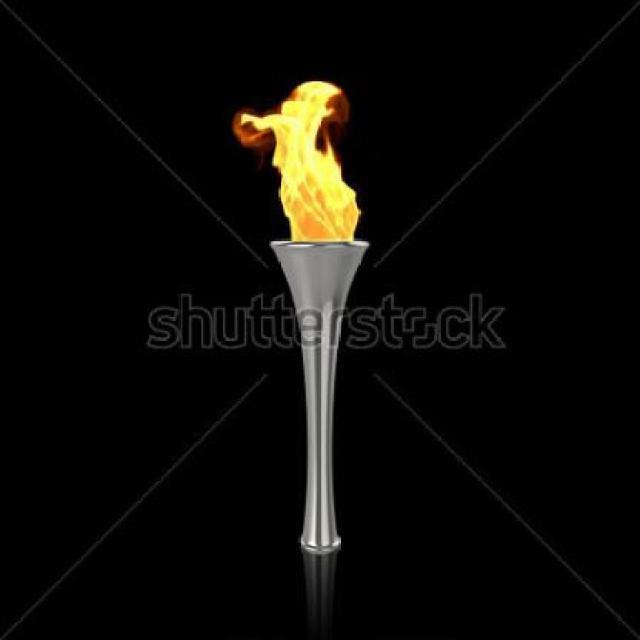Fire: (231, 80, 361, 240)
